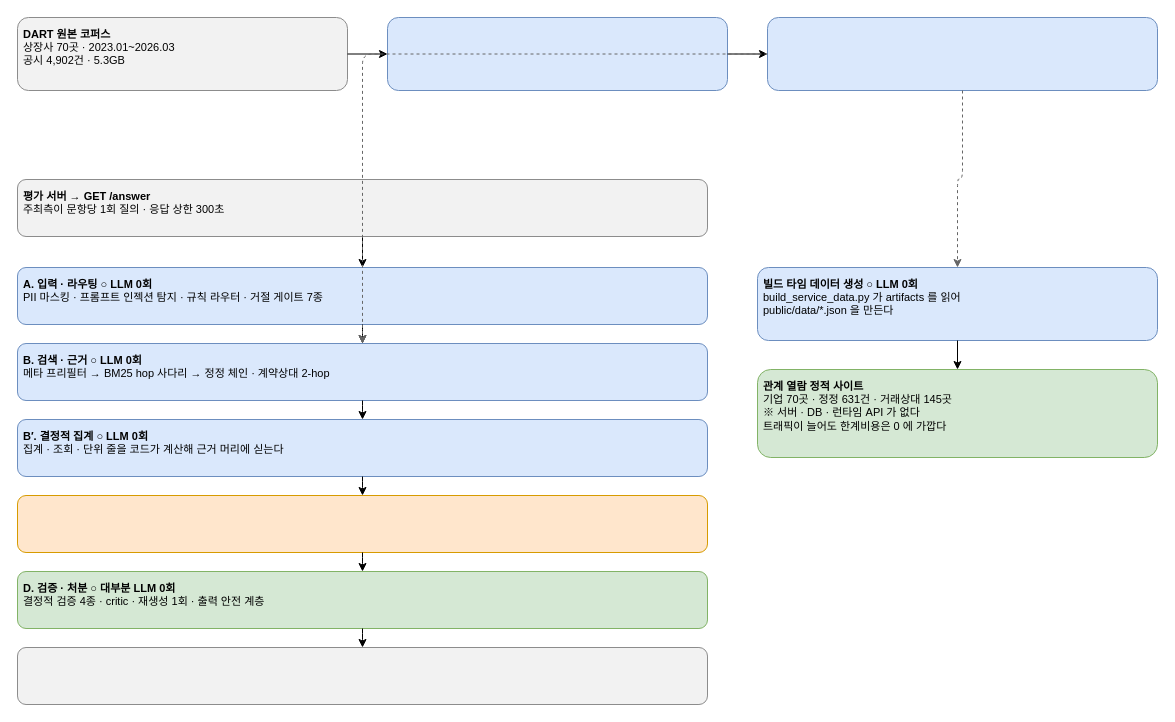
This 1175x722 diagram has some shape labels left out. The centre of each missing label's shape, as x and y in pixels:
"artifacts/ — 서버에 올라가는 것 문서군별 색인 5종 · 섹션 색인 · 계약상대 그래프 ※ 원본 5.3GB 는 올리지 않는다" belongs at pixel 962 53.
"C. 생성 ● HCX-005 온도 0.0 · 난이도 상이면 CoT · 자기일관성 k=3 (금액 문항)" belongs at pixel 362 523.
"응답 — 5키 JSON question_id · question · retrieved_context · think_trace · answer" belongs at pixel 362 675.
"전처리 · 색인 ○ LLM 0회 정규화 · 정정 체인 복원 · 목차 섹션 분해 계약상대 그래프 · BM25 색인" belongs at pixel 557 53.
